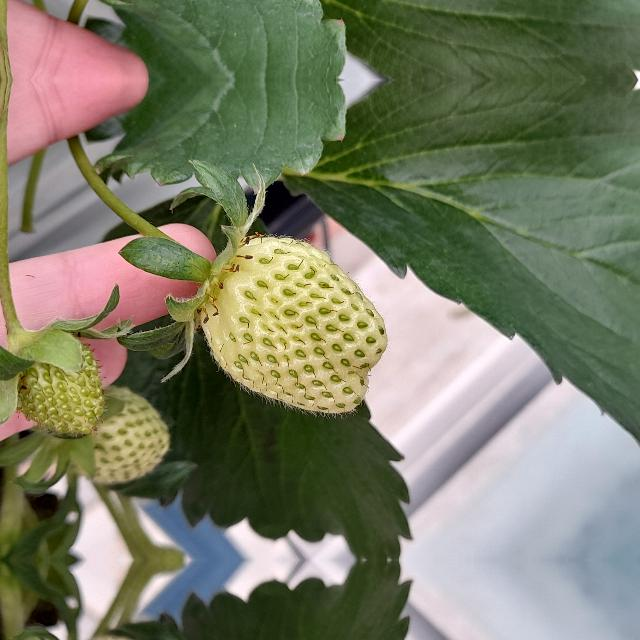Health_25: (200, 237, 386, 413), (72, 386, 172, 486), (15, 341, 107, 437)
